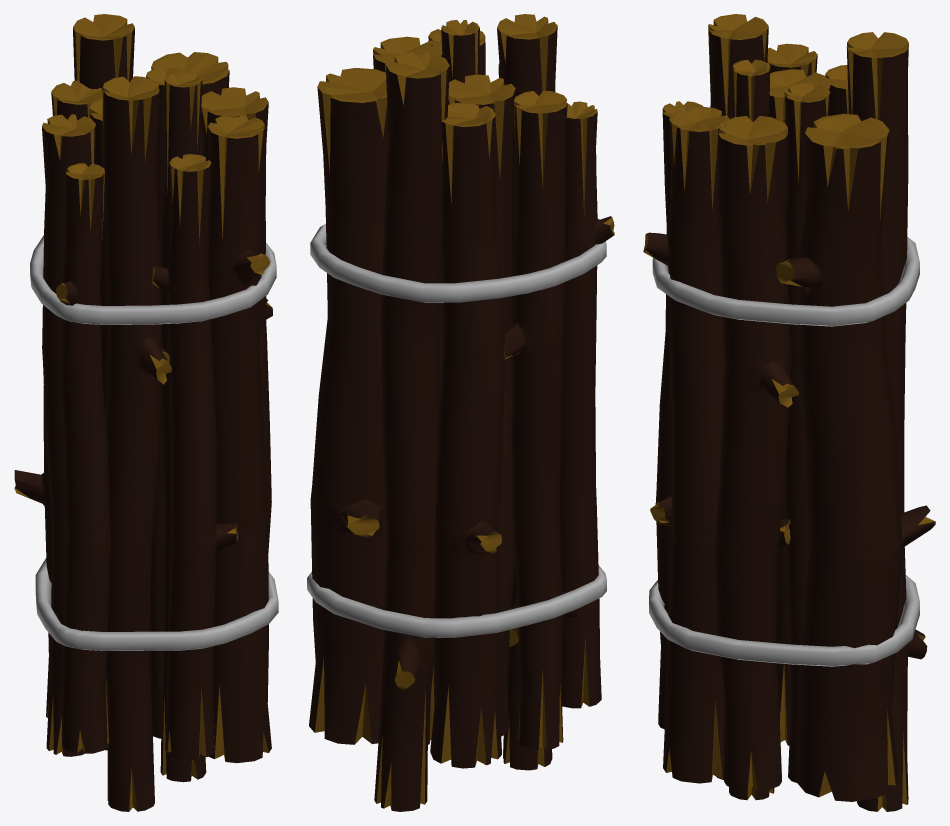
Rendered from sticks.fbx.
3 views of the same model, side by side, from view 1: azimuth 30°, elevation 25°; view 2: azimuth 150°, elevation 25°; view 3: azimuth 270°, elevation 25° (orthographic). The views are drawn at different scales.
Parts seen in each view (by area): view 1: pCylinder6, pCylinder14, pCylinder13, pCylinder11, pCylinder10, pTorus3, pCylinder5, pCylinder15, pCylinder12, pCylinder9, pCylinder8, pCylinder4 (+1 smaller); view 2: pCylinder4, pCylinder9, pCylinder8, pCylinder10, pCylinder11, pTorus3, pCylinder7, pCylinder6, pCylinder5, pCylinder12, pCylinder15; view 3: pCylinder4, pCylinder12, pCylinder14, pCylinder9, pTorus3, pCylinder15, pCylinder13, pCylinder6, pCylinder7, pCylinder5, pCylinder10, pCylinder8.
Part boxes in pixels (<box>): pCylinder6: <box>102,76,171,811</box>; pCylinder14: <box>207,114,271,763</box>; pCylinder13: <box>151,154,238,759</box>; pCylinder11: <box>56,163,110,753</box>; pCylinder10: <box>42,114,95,756</box>; pTorus3: <box>30,235,278,650</box>; pCylinder5: <box>160,71,206,782</box>; pCylinder15: <box>146,67,186,738</box>; pCylinder12: <box>200,87,272,552</box>; pCylinder9: <box>73,14,134,750</box>; pCylinder8: <box>14,80,102,717</box>; pCylinder4: <box>151,52,229,155</box>; pCylinder4: <box>309,68,388,744</box>; pCylinder9: <box>374,52,449,811</box>; pCylinder8: <box>430,102,505,768</box>; pCylinder10: <box>503,90,578,749</box>; pCylinder11: <box>560,101,614,708</box>; pTorus3: <box>307,224,606,637</box>; pCylinder7: <box>448,74,515,736</box>; pCylinder6: <box>497,14,557,770</box>; pCylinder5: <box>441,20,479,83</box>; pCylinder12: <box>373,36,442,72</box>; pCylinder15: <box>416,54,443,744</box>; pCylinder4: <box>776,113,935,801</box>; pCylinder12: <box>715,116,799,791</box>; pCylinder14: <box>643,106,729,783</box>; pCylinder9: <box>846,32,927,811</box>; pTorus3: <box>649,237,919,666</box>; pCylinder15: <box>784,83,830,782</box>; pCylinder13: <box>650,101,703,729</box>; pCylinder6: <box>708,14,768,779</box>; pCylinder7: <box>769,69,831,745</box>; pCylinder5: <box>729,59,790,800</box>; pCylinder10: <box>767,43,817,76</box>; pCylinder8: <box>825,65,848,115</box>.
Bounding box in the file's own units: 20.47 × 58.47 × 20.68.
